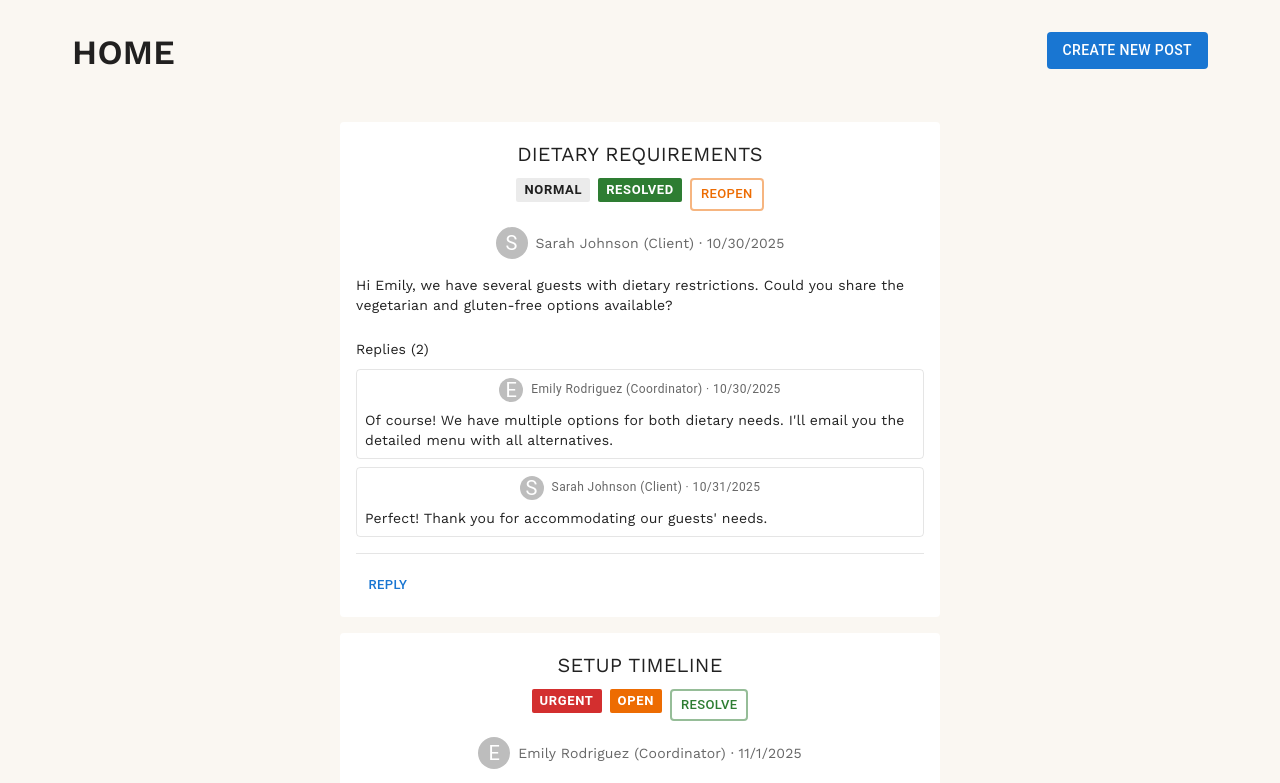
Test case: Discussions Page › Reply Functionality › displays reply text field when reply button is clicked
Click the button "Reply".
click(388, 585)  # box [356,570,420,601]
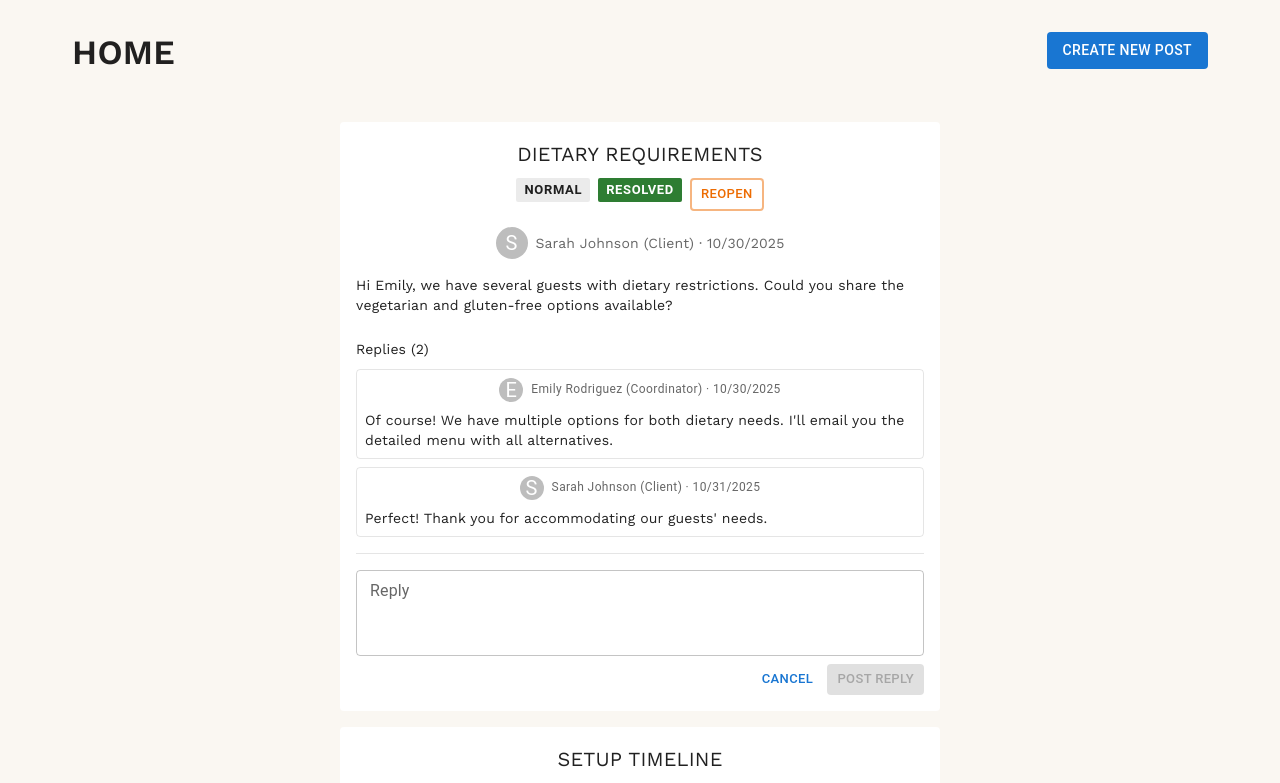
Expected: the text box with placeholder "Write your reply..." is shown, [370,578,910,647]
